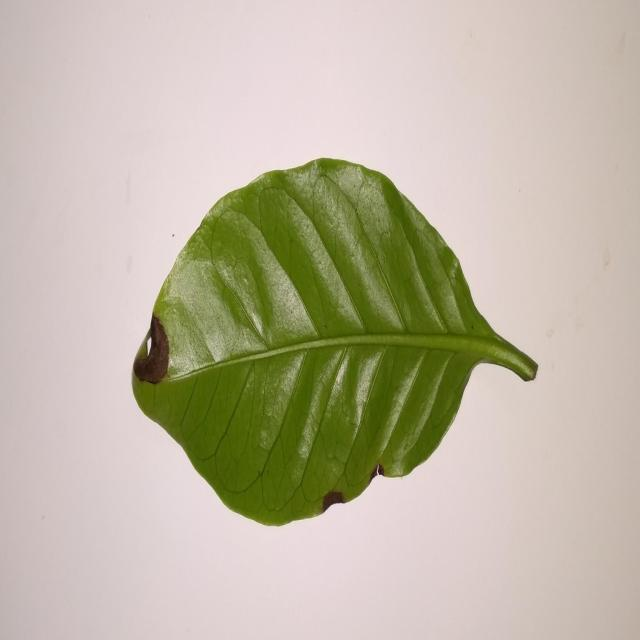Enfermedad-Antracnosis: (131, 158, 539, 529)
